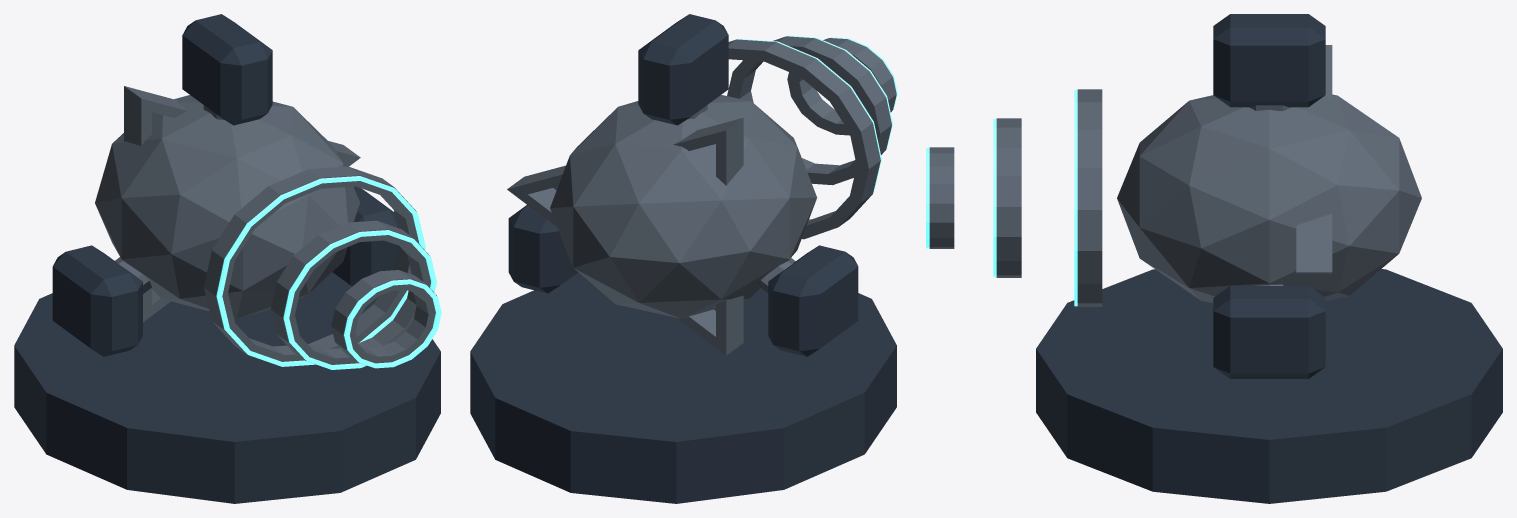
The model's file is goal_core.glb.
The picture shows the model from 3 angles, left to right: view 1: azimuth 30°, elevation 25°; view 2: azimuth 150°, elevation 25°; view 3: azimuth 270°, elevation 25°; orthographic projection. The views are drawn at different scales.
Parts seen in each view (by area): view 1: goal_core__base, goal_core__core, goal_core__beacon, goal_core__antenna, goal_core__antenna__02, goal_core__beacon__02, goal_core__beacon__03, goal_core__frame, goal_core__antenna__03, goal_core__beacon_emissive, goal_core__beacon_emissive__02, goal_core__beacon_emissive__03; view 2: goal_core__base, goal_core__core, goal_core__antenna, goal_core__antenna__02, goal_core__beacon, goal_core__frame, goal_core__beacon__02, goal_core__antenna__03, goal_core__beacon__03; view 3: goal_core__base, goal_core__core, goal_core__antenna, goal_core__antenna__03, goal_core__beacon, goal_core__beacon__02, goal_core__beacon__03, goal_core__frame, goal_core__beacon_emissive, goal_core__beacon_emissive__02.
Part boxes in pixels (x1,y1,x2,y2): goal_core__base: [14, 272, 440, 503]; goal_core__core: [95, 95, 360, 318]; goal_core__beacon: [204, 166, 419, 361]; goal_core__antenna: [182, 14, 272, 125]; goal_core__antenna__02: [52, 245, 142, 356]; goal_core__beacon__02: [271, 220, 430, 364]; goal_core__beacon__03: [331, 270, 436, 363]; goal_core__frame: [124, 86, 360, 322]; goal_core__antenna__03: [332, 186, 399, 286]; goal_core__beacon_emissive: [216, 176, 425, 366]; goal_core__beacon_emissive__02: [283, 230, 436, 369]; goal_core__beacon_emissive__03: [344, 279, 441, 368]; goal_core__base: [470, 272, 896, 503]; goal_core__core: [550, 95, 817, 318]; goal_core__antenna: [638, 14, 728, 125]; goal_core__antenna__02: [768, 245, 858, 356]; goal_core__beacon: [728, 39, 880, 239]; goal_core__frame: [507, 118, 743, 355]; goal_core__beacon__02: [727, 36, 891, 185]; goal_core__antenna__03: [508, 186, 578, 293]; goal_core__beacon__03: [787, 38, 896, 135]; goal_core__base: [1036, 269, 1502, 503]; goal_core__core: [1117, 94, 1421, 302]; goal_core__antenna: [1213, 14, 1325, 107]; goal_core__antenna__03: [1213, 286, 1325, 378]; goal_core__beacon: [1077, 89, 1102, 306]; goal_core__beacon__02: [996, 118, 1021, 277]; goal_core__beacon__03: [929, 147, 954, 248]; goal_core__frame: [1296, 45, 1332, 273]; goal_core__beacon_emissive: [1074, 90, 1077, 306]; goal_core__beacon_emissive__02: [993, 119, 996, 277].
Bounding box in the file's own units: 1.2 × 1.2 × 1.6.
